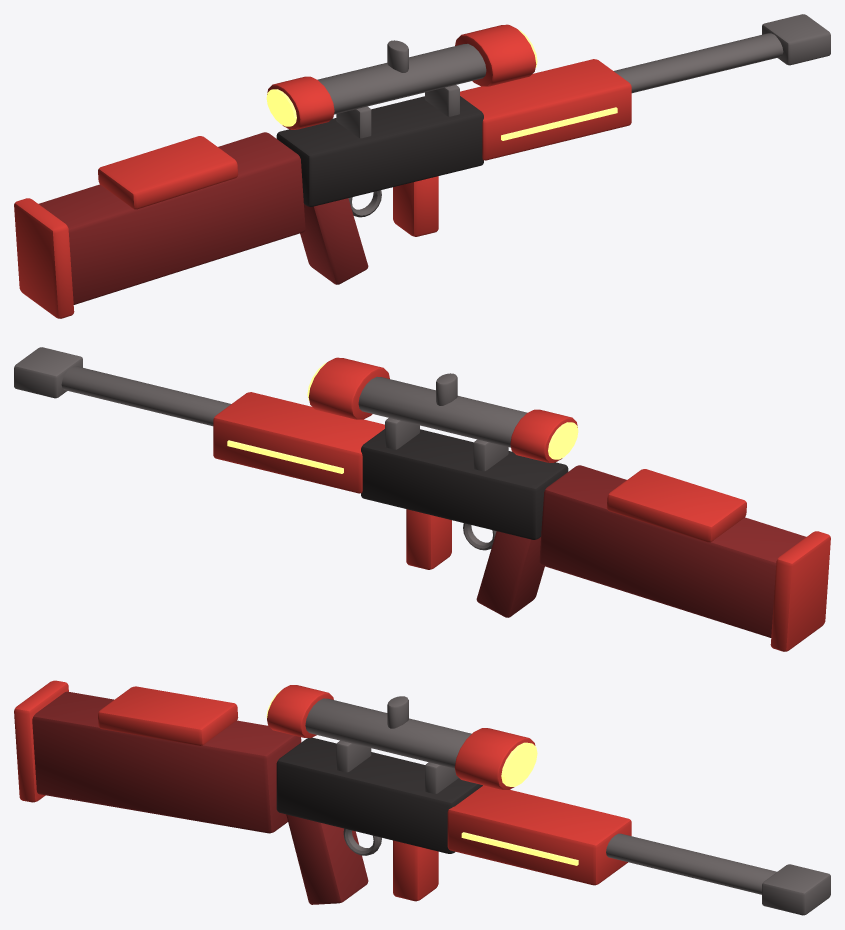
The model's file is SGP_Sniper_Inferno.fbx.
3 renders of one model, top to bottom at view 1: azimuth 30°, elevation 25°; view 2: azimuth 150°, elevation 25°; view 3: azimuth 330°, elevation 25°, orthographic.
Visible parts, largest first — view 1: SGP_Sniper_Inferno; view 2: SGP_Sniper_Inferno; view 3: SGP_Sniper_Inferno.
Part boxes in pixels (x1=…): SGP_Sniper_Inferno: x1=14, y1=14, x2=830, y2=318; SGP_Sniper_Inferno: x1=14, y1=347, x2=830, y2=651; SGP_Sniper_Inferno: x1=14, y1=680, x2=830, y2=915.
Size of the model in its own units: 0.8882 by 0.2295 by 0.08.
